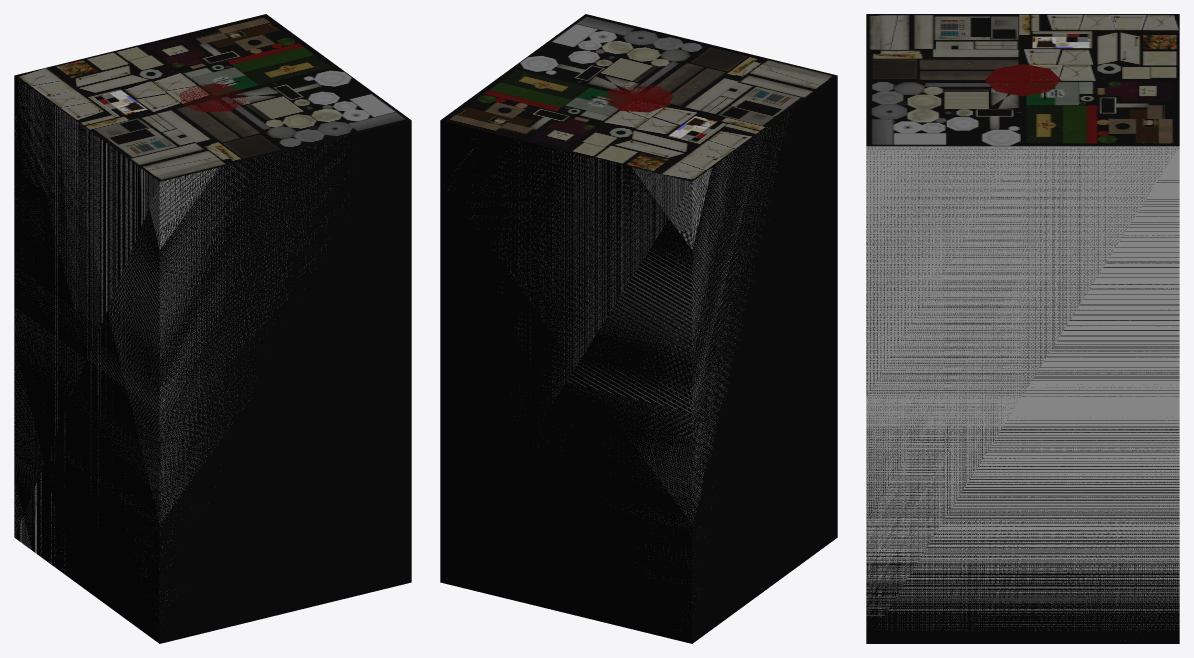
Rendered from bottle_03.DAE.
3 views of the same model, side by side, from view 1: azimuth 30°, elevation 25°; view 2: azimuth 150°, elevation 25°; view 3: azimuth 270°, elevation 25° (orthographic). The views are drawn at different scales.
Visible parts, largest first — view 1: colbox-1, bounds, bottle_three100; view 2: colbox-1, bounds, bottle_three100; view 3: bounds, colbox-1, bottle_three100.
Part boxes in pixels (x1,y1,x2,y2): colbox-1: [14, 14, 411, 643]; bounds: [14, 81, 342, 598]; bottle_three100: [179, 83, 246, 112]; colbox-1: [440, 14, 837, 643]; bounds: [457, 127, 780, 602]; bottle_three100: [605, 84, 672, 112]; bounds: [866, 146, 1179, 630]; colbox-1: [866, 14, 1179, 643]; bottle_three100: [985, 64, 1060, 96].
Bounding box in the file's own units: 19.12 × 19.11 × 33.49.
